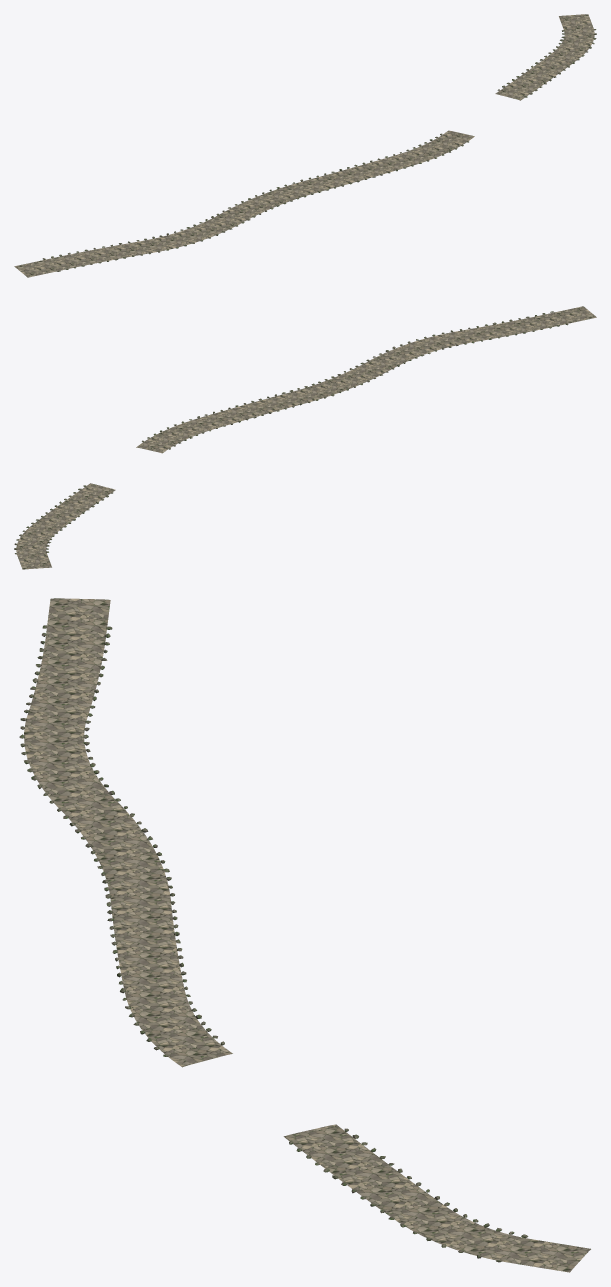
File: wood_path.glb
3 views of the same model, one above another, from view 1: azimuth 30°, elevation 25°; view 2: azimuth 210°, elevation 25°; view 3: azimuth 270°, elevation 25° (orthographic). The views are drawn at different scales.
Size of the model in its own units: 172 by 0.4616 by 61.77.
2 materials, 2 textured.
